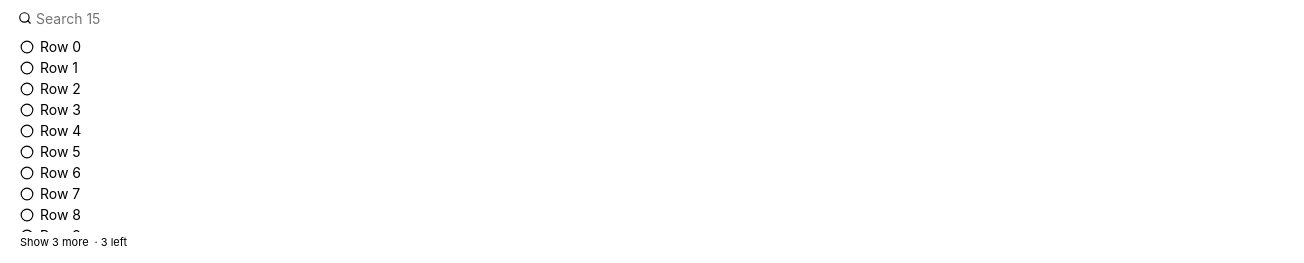
Test case: the search › filters on what a row says, and on its body
Type "contract" into the search field at {"x": 652, "y": 18}, box [12,4,1292,32]
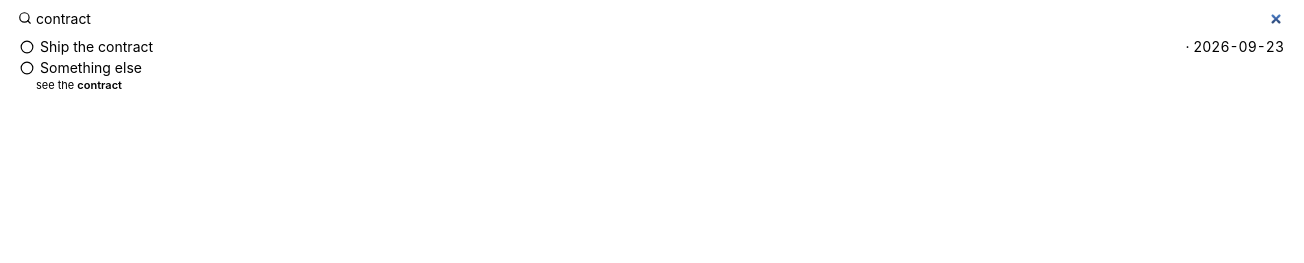
Now the text "Ship the contract" is shown, box [40,38,153,55]
Now the text "Something else" is shown, box [40,59,142,76]
